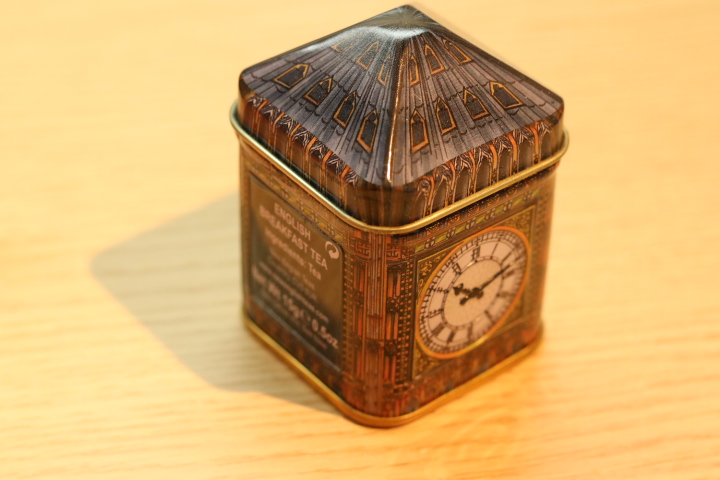Big Ben: (217, 1, 585, 442)
